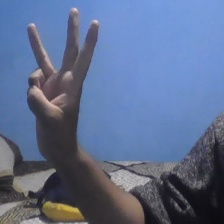W: (23, 6, 102, 162)
